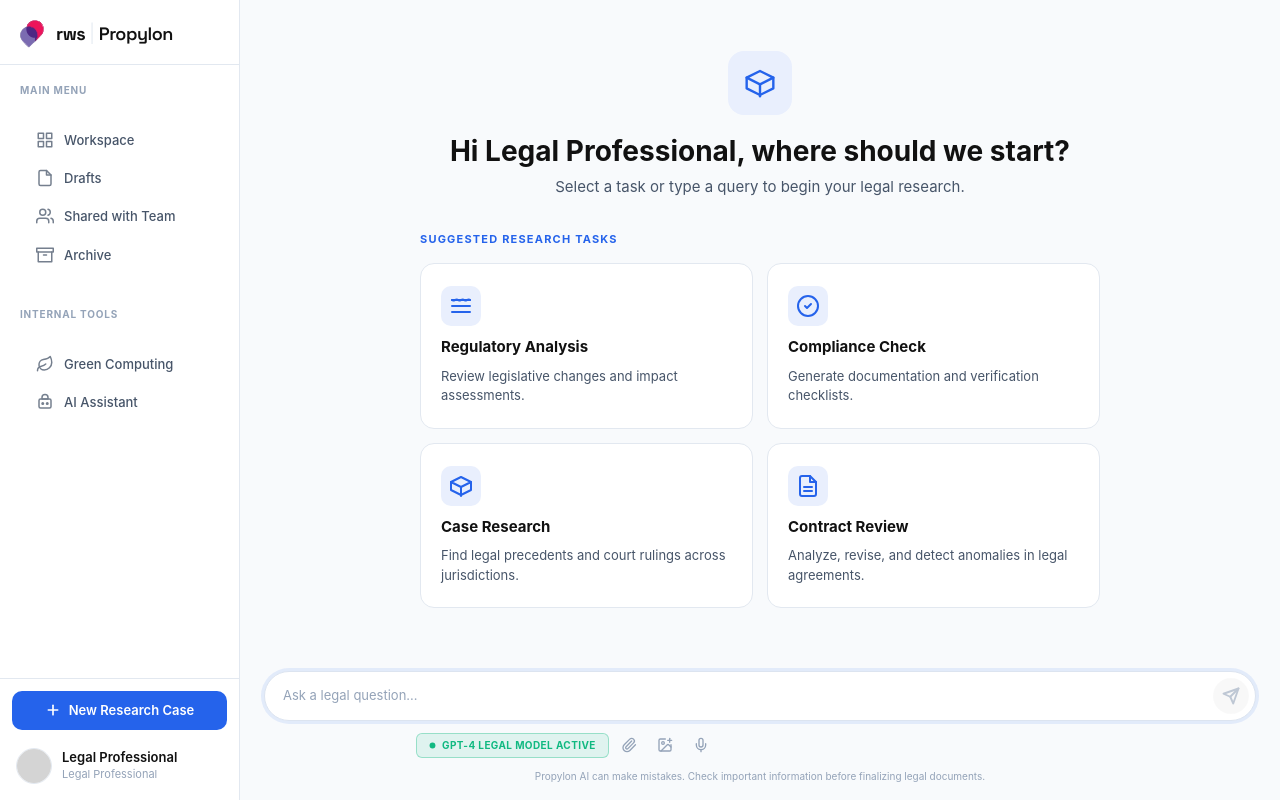
AIagentPage › Chat Flow › renders the summary and citations when structured_answer is returned
Type "What does Nevada HB 123 do?" into the text box with placeholder "Ask a legal question…" at (744,696), box [283,680,1205,712]
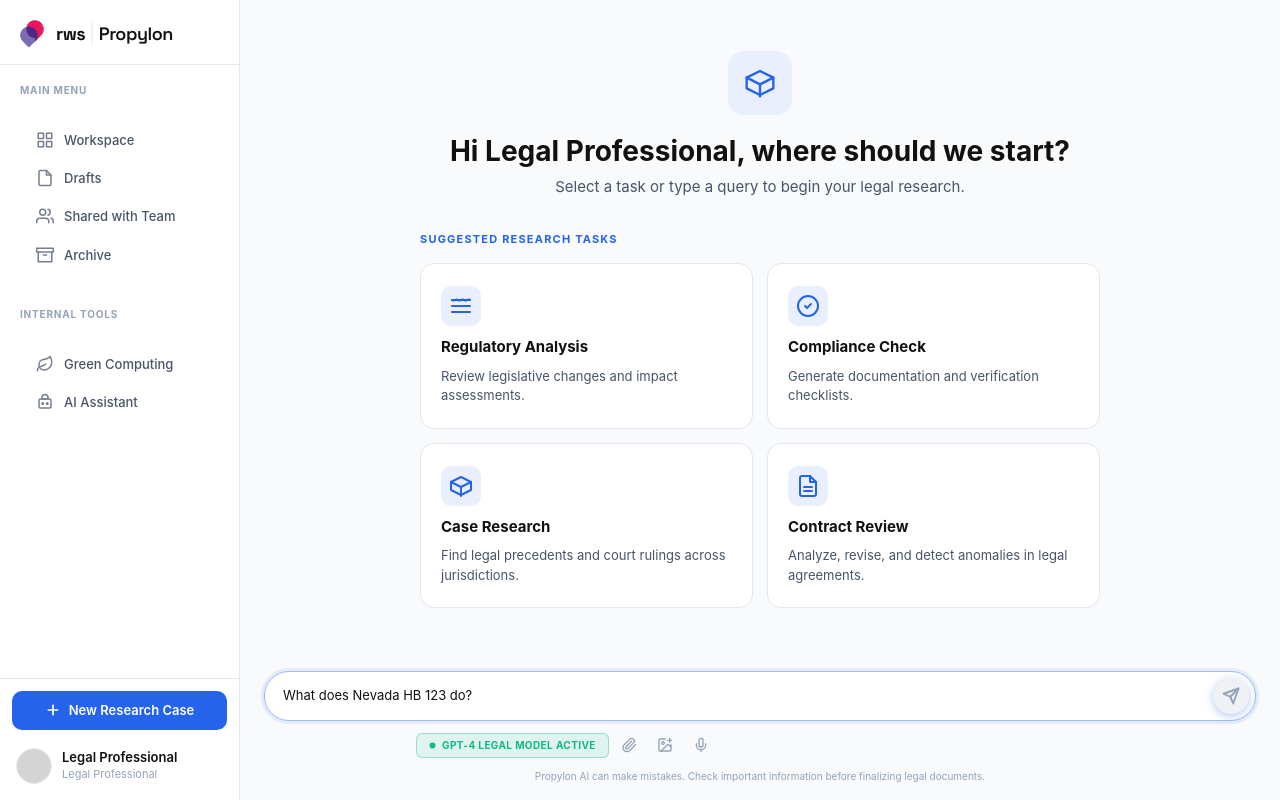
Click the button named "send message" at (1231,696), box [1213,678,1249,714]
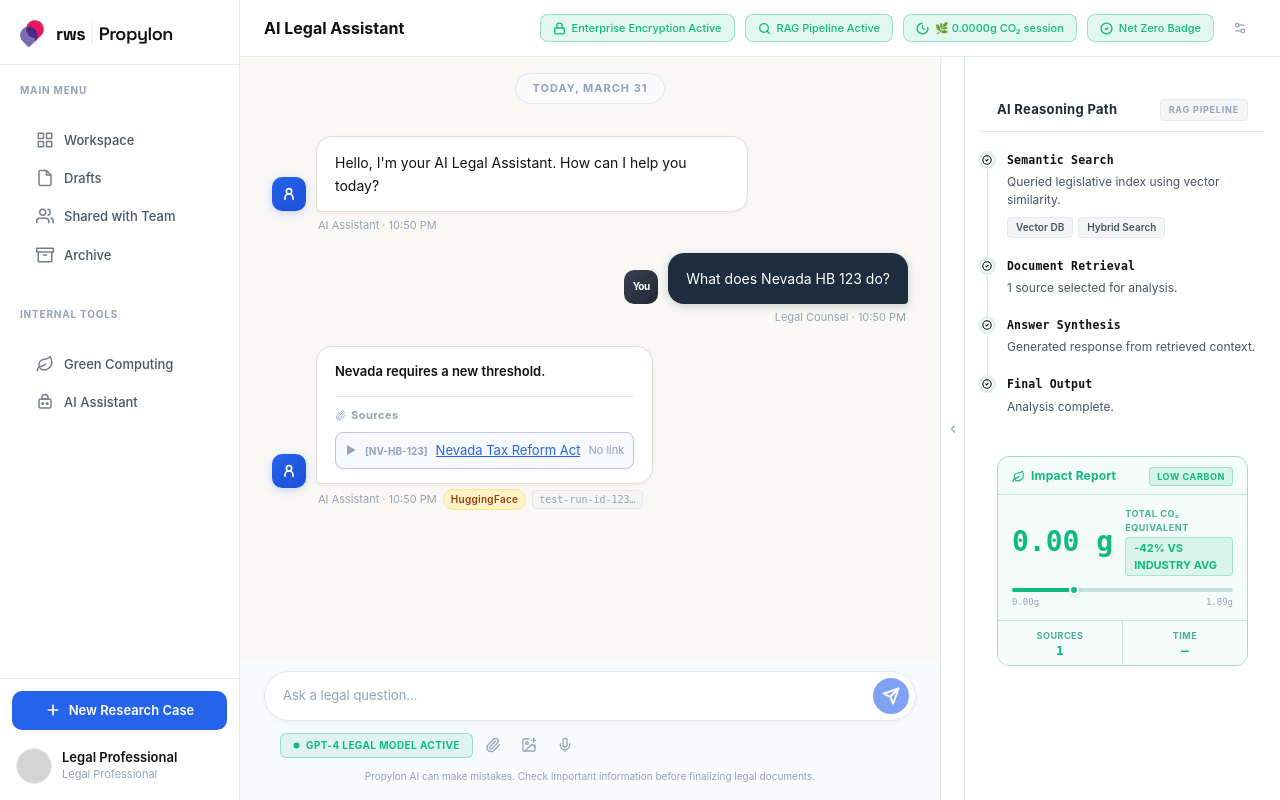
Check: the text "Nevada requires a new threshold." is shown, box [335,363,545,379]
Check: the text "Sources" is shown, box [335,408,399,422]
Check: the text "[NV-HB-123]" is shown, box [365,443,428,459]
Click the button named "toggle excerpt" at (351,451), box [345,445,357,457]
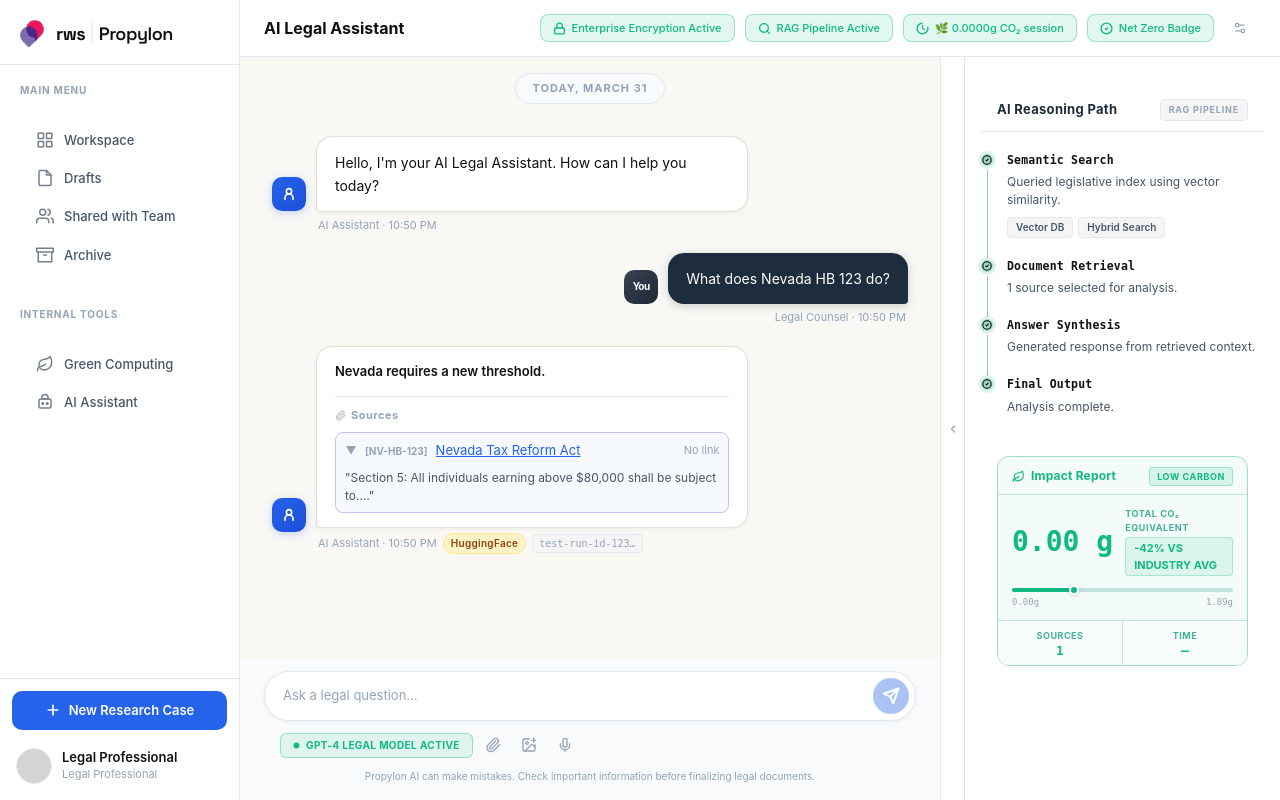
Check: the text "Section 5: All individuals earning above $80,000 shall be subject to" is shown, box [345,470,716,503]
